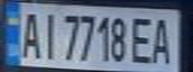1: (93, 12, 112, 62)
7: (57, 10, 81, 61), (75, 11, 96, 62)
8: (109, 12, 130, 63)
A: (148, 14, 178, 65), (15, 7, 42, 61)
E: (127, 13, 157, 64)
I: (36, 8, 60, 61)
